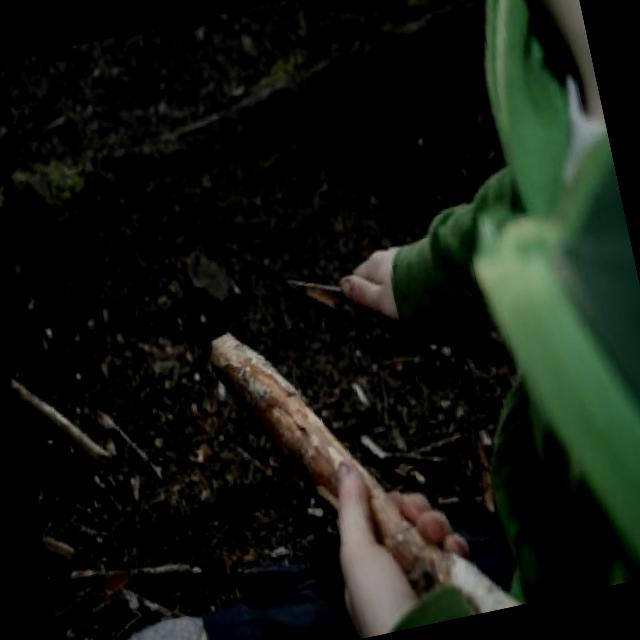Person: (221, 0, 640, 637)
